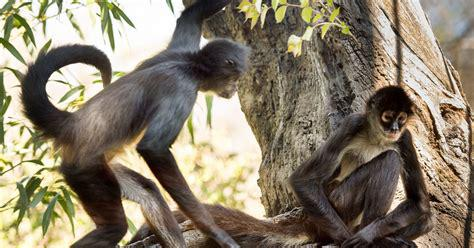monkey: (23, 1, 245, 248), (240, 85, 432, 247)
